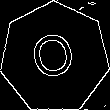O_S: (28, 27, 82, 88)
